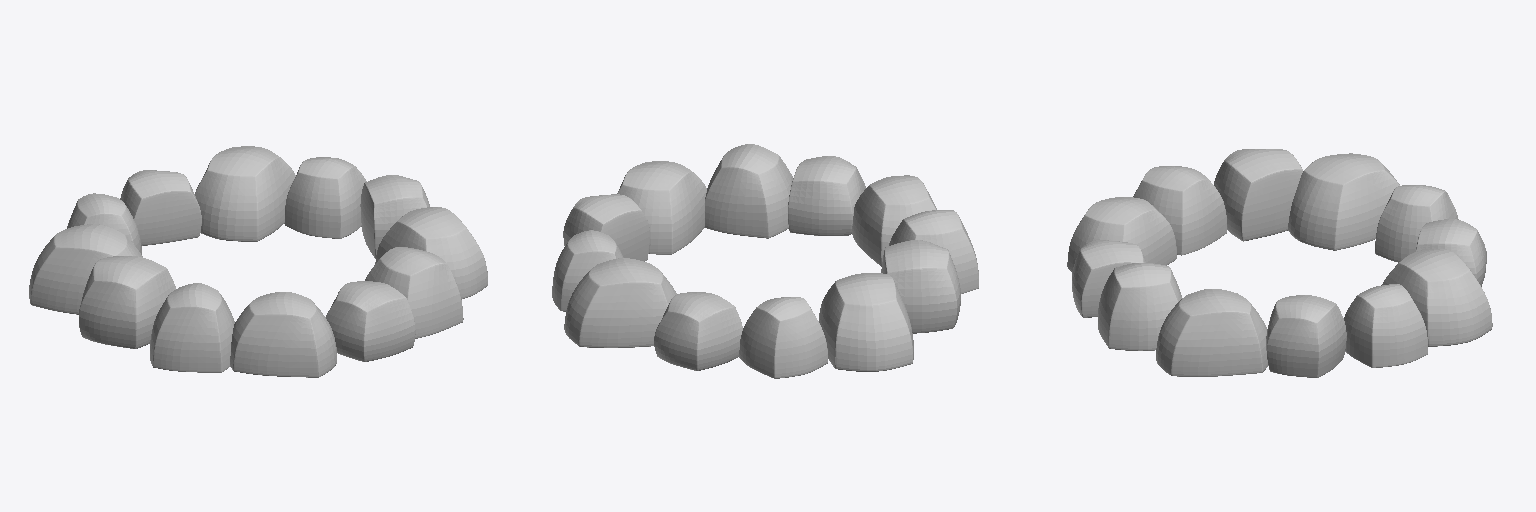
File: fp_rocks.obj
3 renders of one model, left to right at view 1: azimuth 30°, elevation 25°; view 2: azimuth 150°, elevation 25°; view 3: azimuth 270°, elevation 25°, orthographic.
Parts seen in each view (by area): view 1: rocks; view 2: rocks; view 3: rocks.
Part boxes in pixels (bbox=[...]): rocks: bbox=[29, 146, 487, 377]; rocks: bbox=[552, 144, 978, 378]; rocks: bbox=[1067, 149, 1492, 377].
Bounding box in the file's own units: 40.15 × 7.02 × 39.9.